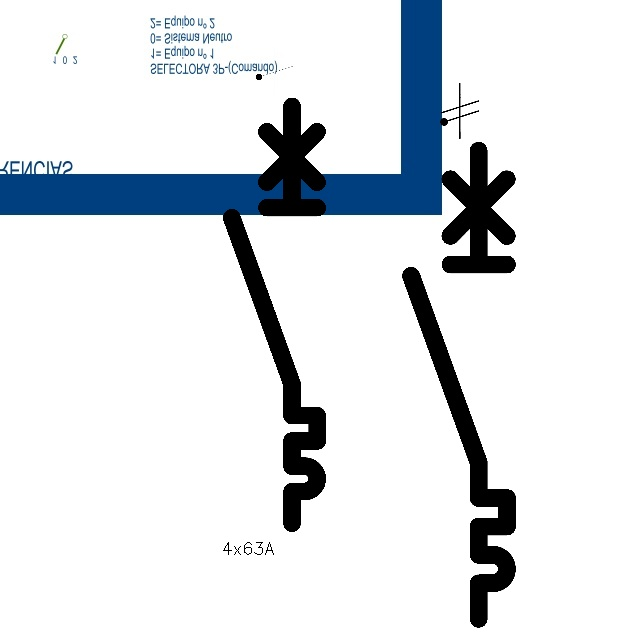interruptor_termomagnetico: (399, 138, 519, 631), (221, 95, 328, 534)
